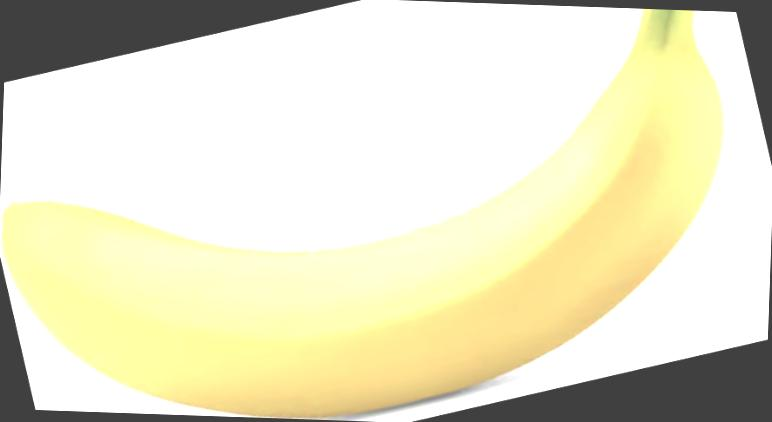Banana Ripe: (2, 0, 731, 422)
